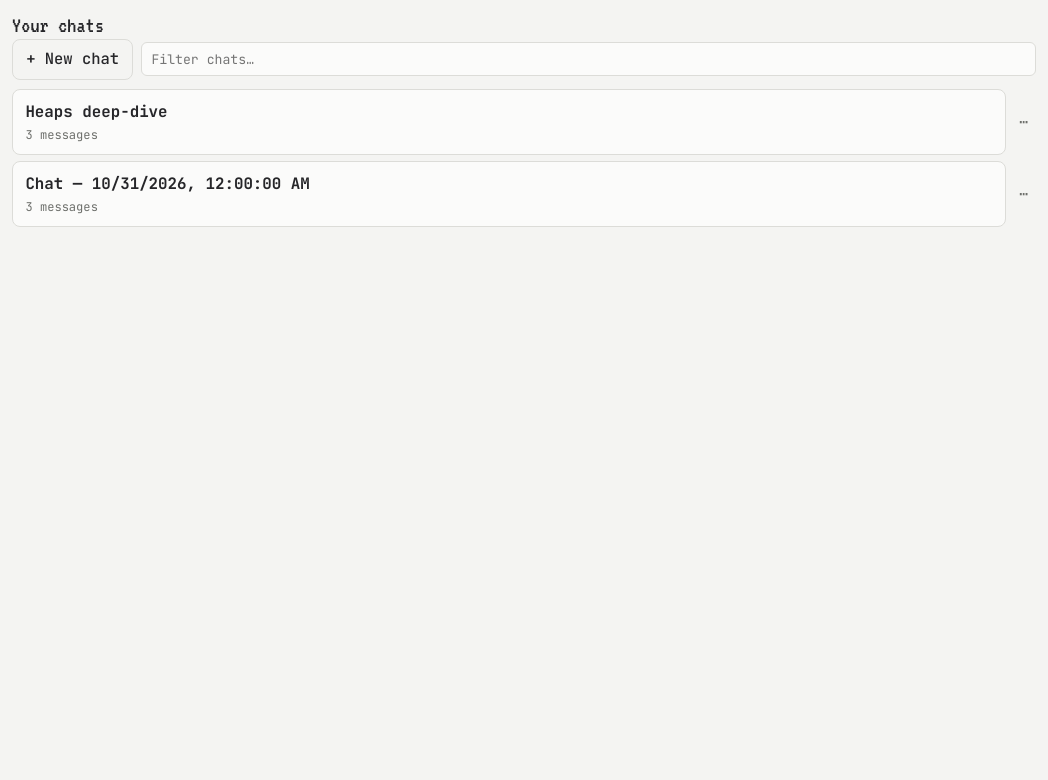
Scenario: ChatPanel session-list flow › subject chats start on the session list — no composer until a chat is entered
Expected: the heading "Your chats" is shown, [12, 12, 104, 39]
Note: entering a chat reveals composer + history
Click the text "Heaps deep-dive" at point(96, 111), box [25, 98, 168, 124]
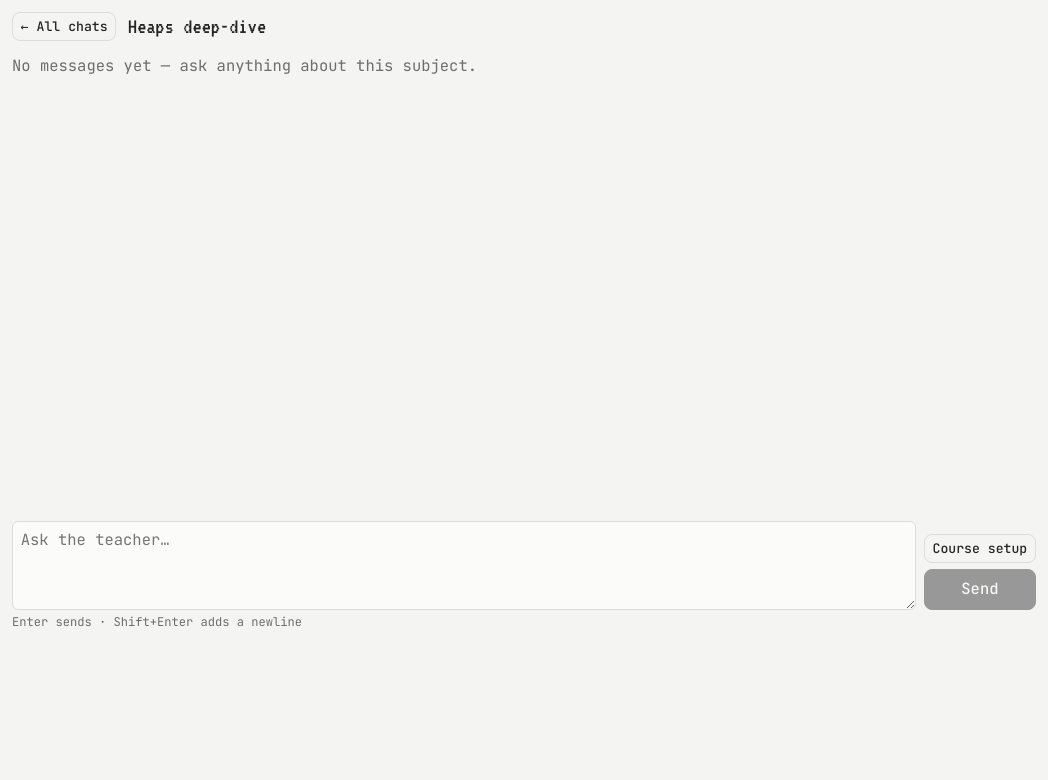
Now the text box named "Message the teacher" is shown, box [12, 521, 916, 610]
Now the button "← All chats" is shown, box [12, 12, 116, 41]
